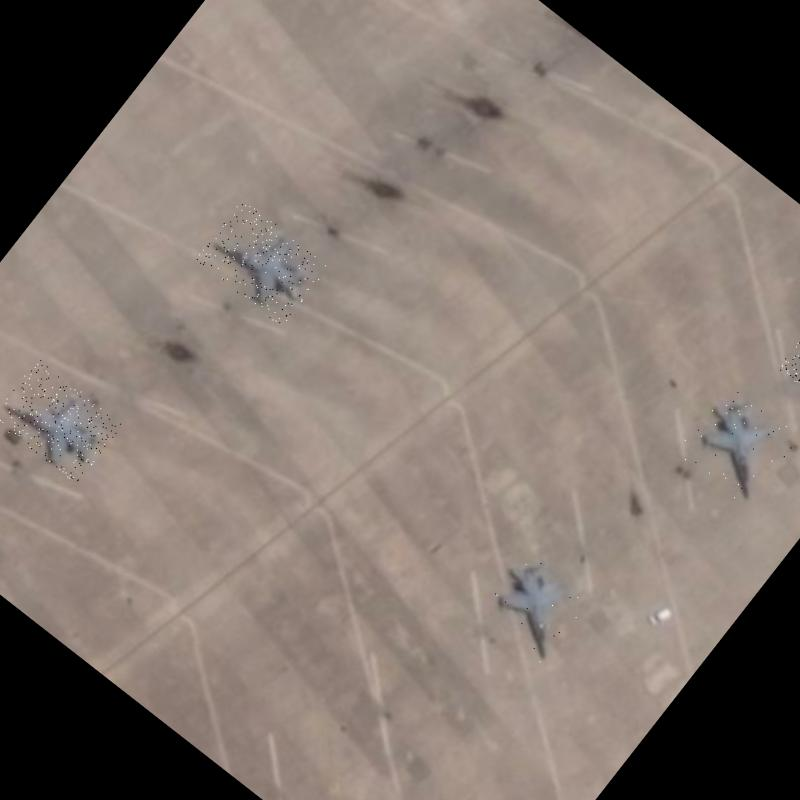A16: (194, 198, 330, 328), (473, 542, 600, 668), (675, 381, 800, 507), (0, 358, 123, 485)
